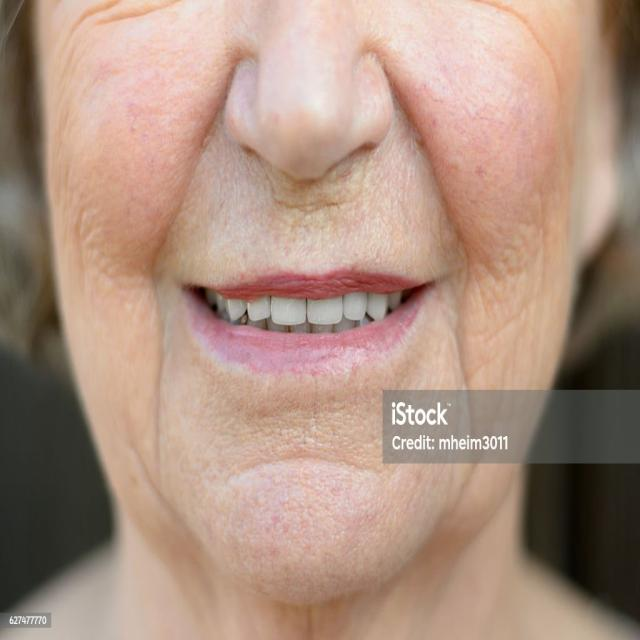Dry-Skin: (112, 353, 346, 486), (210, 60, 400, 222), (62, 96, 197, 233), (471, 98, 576, 269), (311, 395, 408, 565)
